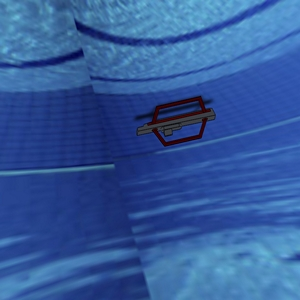submarine: (126, 88, 229, 165)
